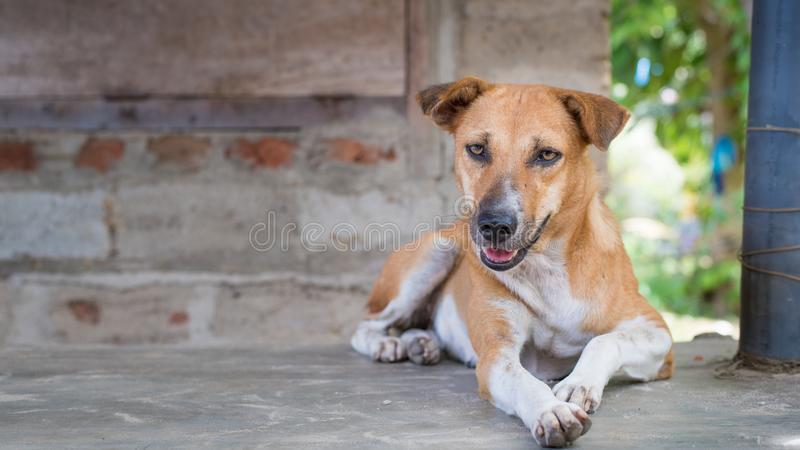Dog: (345, 68, 685, 450)
